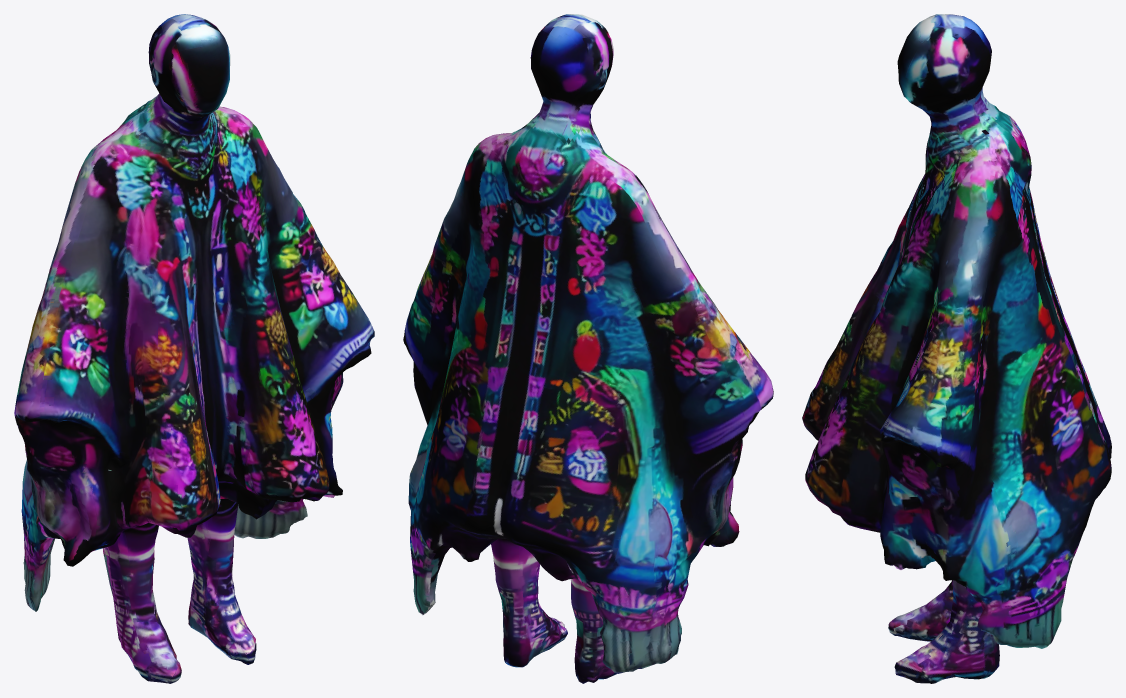
3 views of the same model, side by side, from view 1: azimuth 30°, elevation 25°; view 2: azimuth 150°, elevation 25°; view 3: azimuth 270°, elevation 25° (orthographic).
Visible parts, largest first — view 1: mesh; view 2: mesh; view 3: mesh.
Boxes of the visible parts, x1,y1,x2,y2 form: mesh: [14, 14, 374, 683]; mesh: [403, 14, 773, 683]; mesh: [802, 14, 1111, 683].
Bounding box in the file's own units: 1.14 × 1.96 × 0.8573.
Materials: 1 (1 with a texture image).
